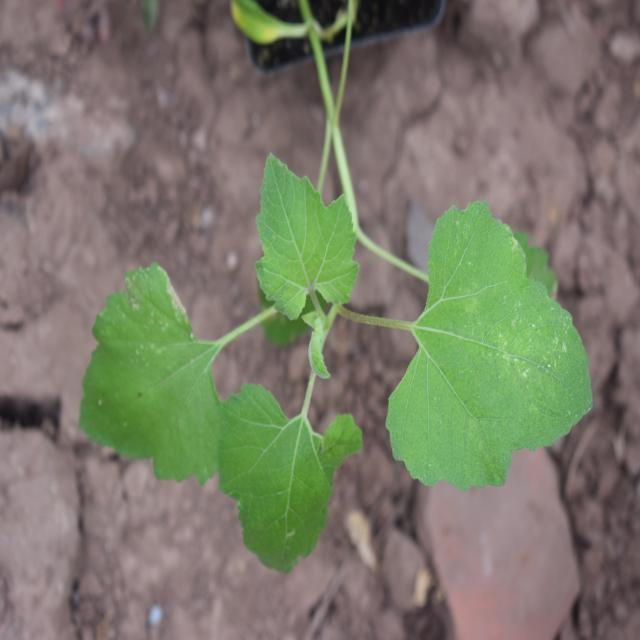cocklebur: (64, 175, 582, 532)
